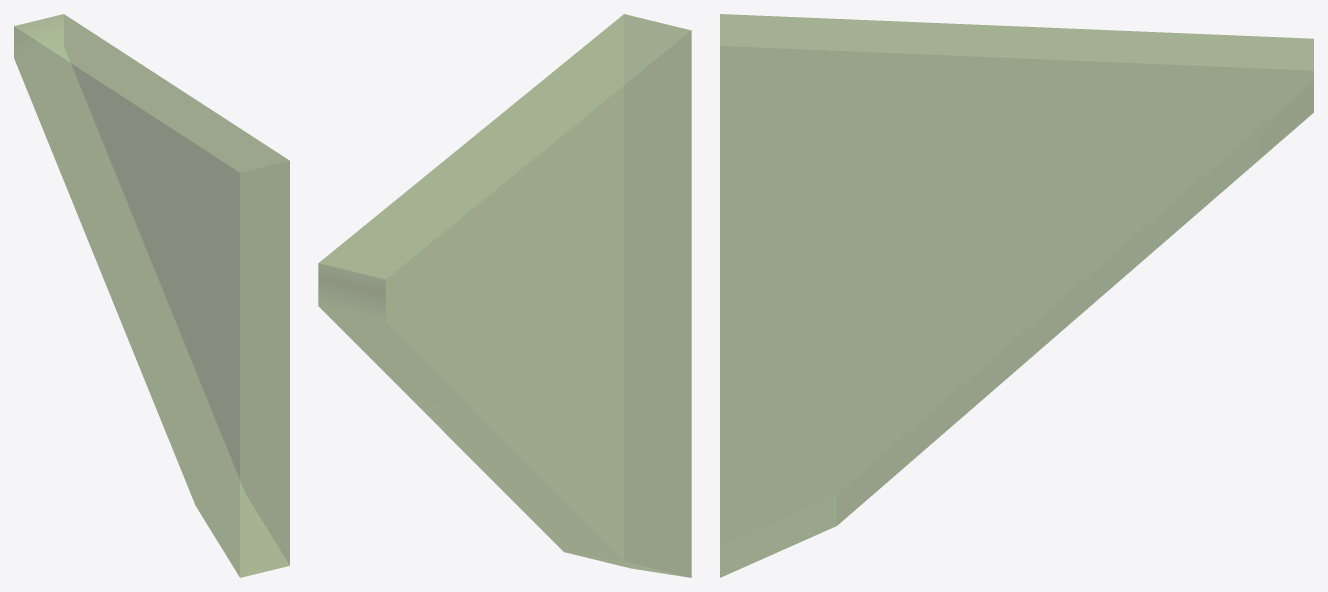
Rendered from bar_pilar_wings_COL.fbx.
3 views of the same model, side by side, from view 1: azimuth 30°, elevation 25°; view 2: azimuth 150°, elevation 25°; view 3: azimuth 270°, elevation 25° (orthographic). The views are drawn at different scales.
Visible parts, largest first — view 1: bar_pilar_wings_COL; view 2: bar_pilar_wings_COL; view 3: bar_pilar_wings_COL.
Part boxes in pixels (<box>): bar_pilar_wings_COL: <box>14,14,289,577</box>; bar_pilar_wings_COL: <box>318,14,691,577</box>; bar_pilar_wings_COL: <box>720,14,1313,577</box>.
Bounding box in the file's own units: 24.5 × 190 × 193.
